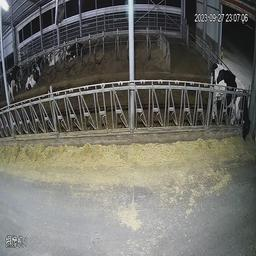cow: (205, 51, 252, 147), (3, 58, 23, 102), (23, 58, 47, 94), (62, 35, 88, 66), (42, 34, 64, 68)
